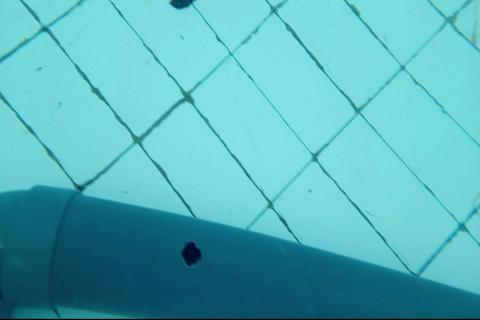kebocoran: (181, 239, 202, 269)
